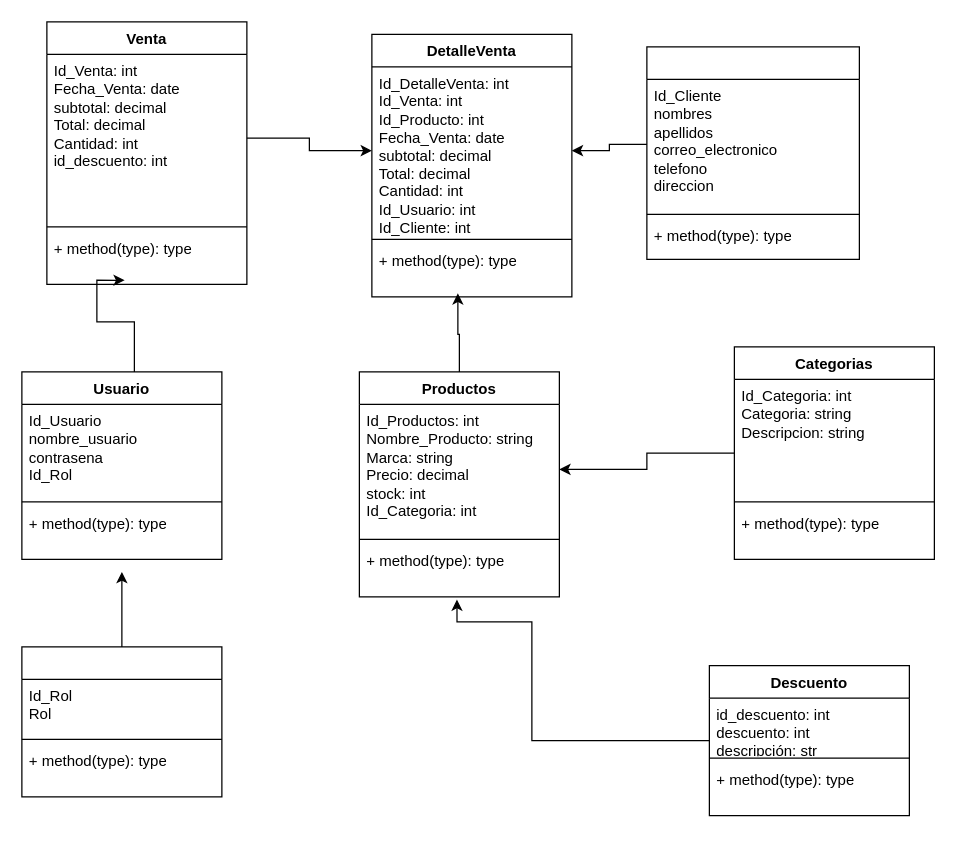
Image size: 956x841. Some labels were removed from this diagram. Here are the shapes that lost their labels. From the top down, the box of each, then its label:
(646, 46, 859, 259): Clientes
(21, 646, 222, 797): Rolo
